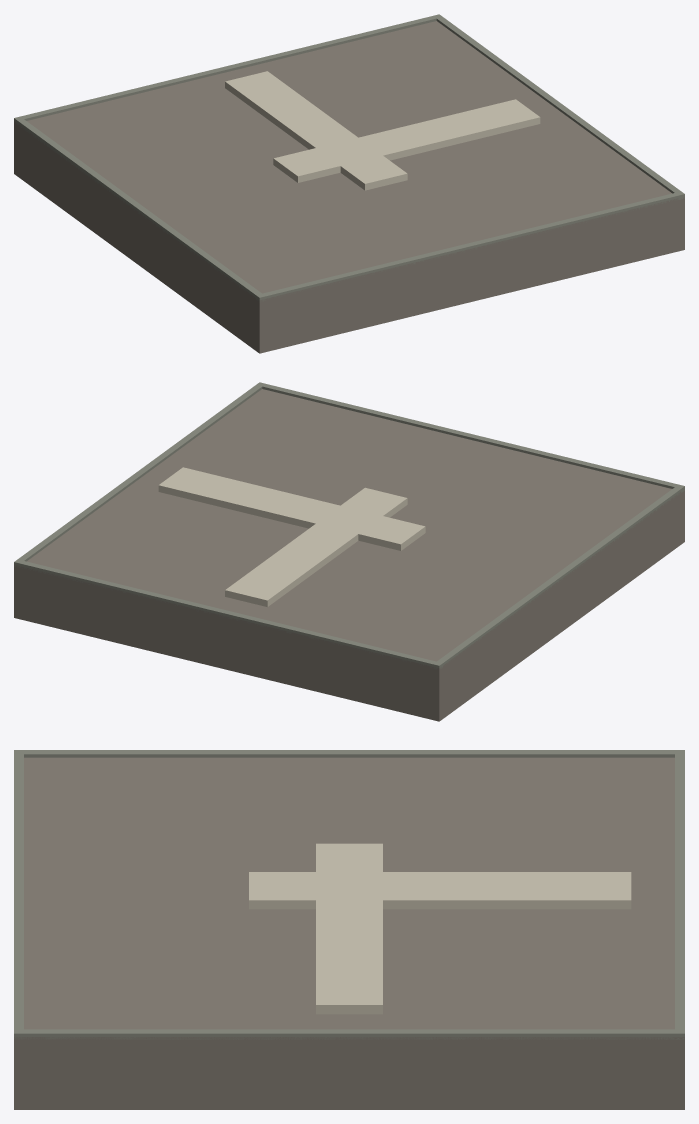
Rendered from Block_Road_Main_Corner.glb.
3 renders of one model, top to bottom at view 1: azimuth 30°, elevation 25°; view 2: azimuth 150°, elevation 25°; view 3: azimuth 270°, elevation 25°, orthographic. The views are drawn at different scales.
Parts seen in each view (by area): view 1: world; view 2: world; view 3: world.
Part boxes in pixels (<box>): world: <box>14,14,684,353</box>; world: <box>14,382,684,721</box>; world: <box>14,750,684,1109</box>.
Size of the model in its own units: 2 by 0.27 by 2.
